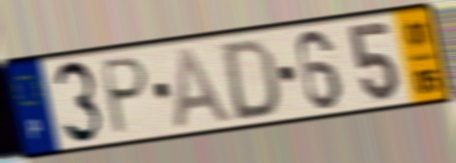3: (49, 58, 105, 146)
5: (344, 20, 401, 104)
6: (295, 26, 345, 113)
A: (172, 45, 237, 132)
D: (221, 35, 281, 123)
P: (100, 54, 152, 138)
